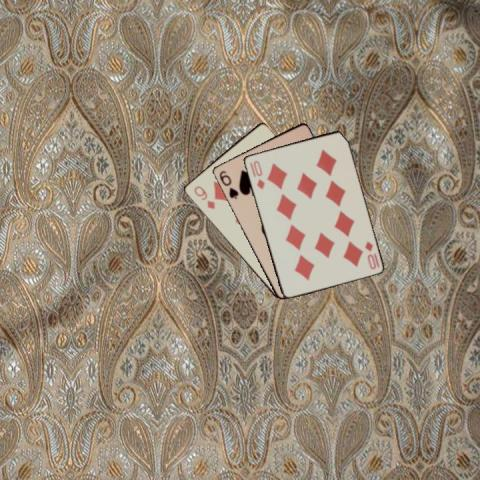10d: (361, 238, 378, 271), (250, 157, 266, 191)
6s: (216, 167, 239, 201)
9d: (191, 182, 216, 210)
